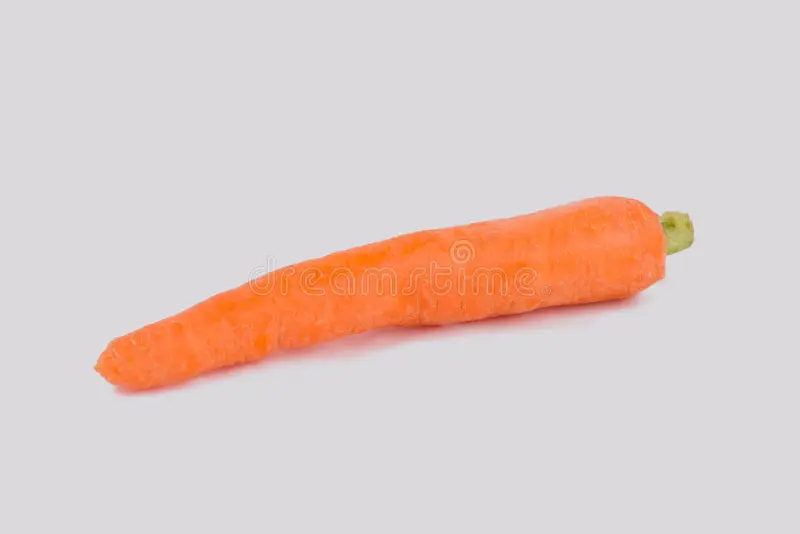carrot: (52, 193, 793, 453)
